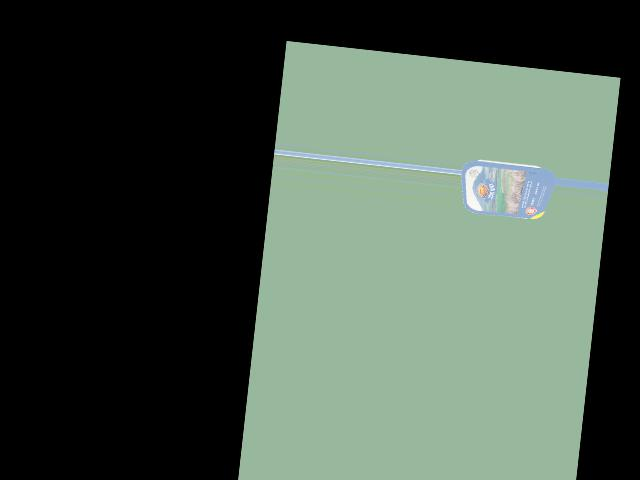cheese: (463, 152, 547, 223)
